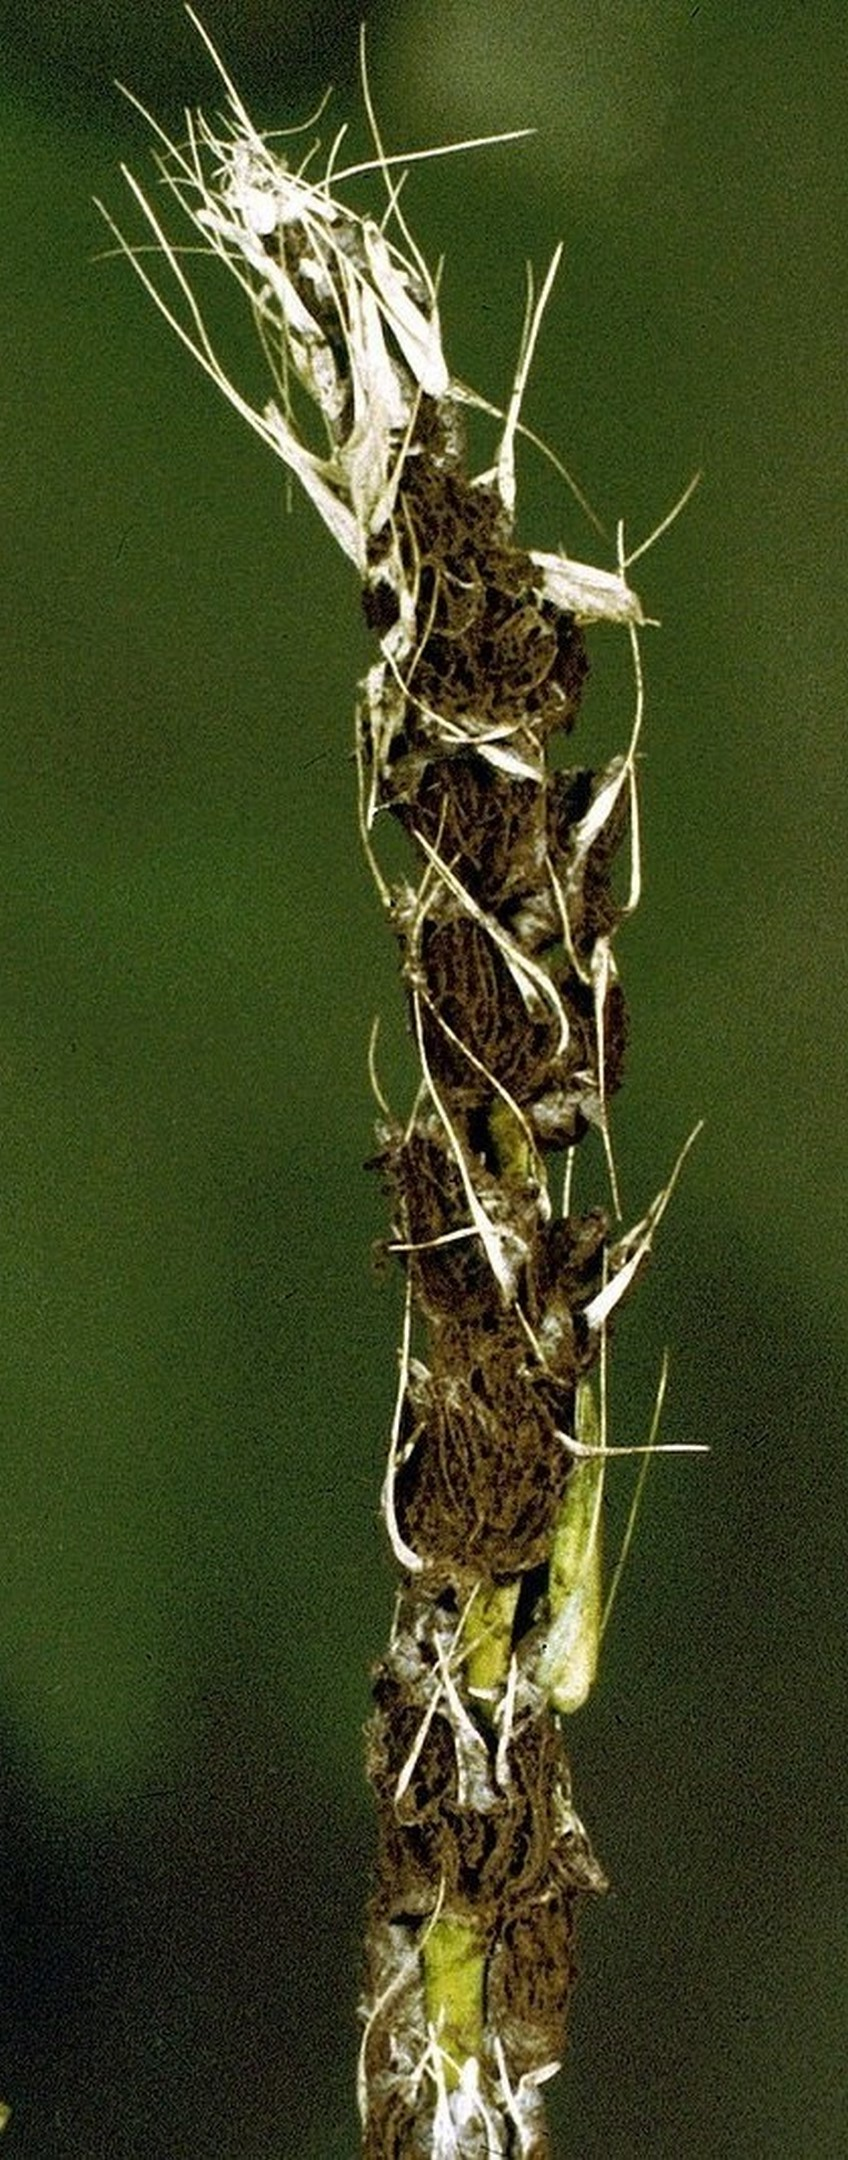Wheat Loose Smut: (195, 117, 699, 2084)
